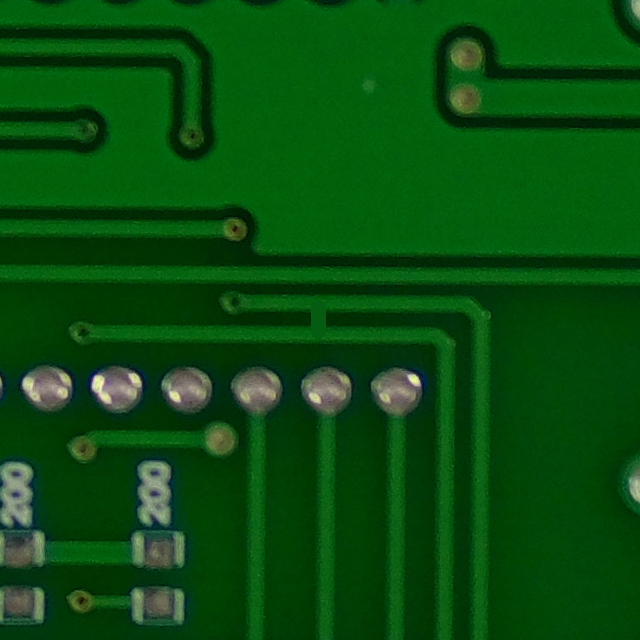short: (287, 288, 354, 353)
